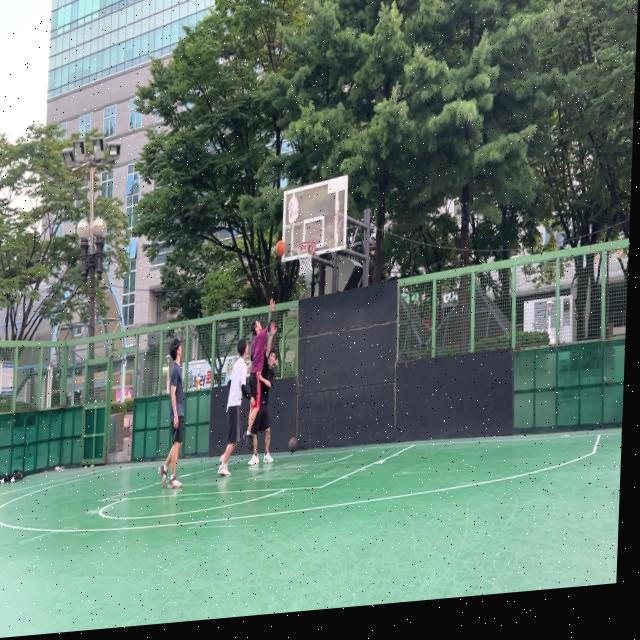basketball: (288, 435, 298, 453), (276, 239, 285, 257)
hoop: (295, 241, 316, 278)
